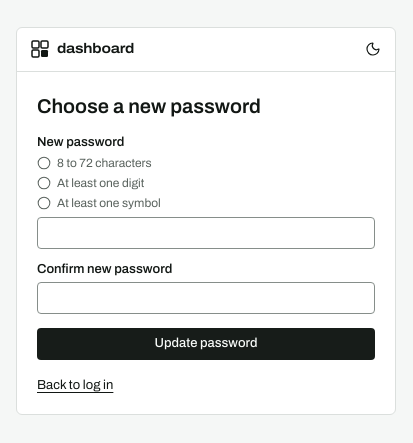
Test: ResetPasswordPage › shows an inline error and makes no request when the confirmation differs
Step 1. Type "telemetry1!" into the password field labelled "New password" → (206, 233), box [37, 217, 375, 249]
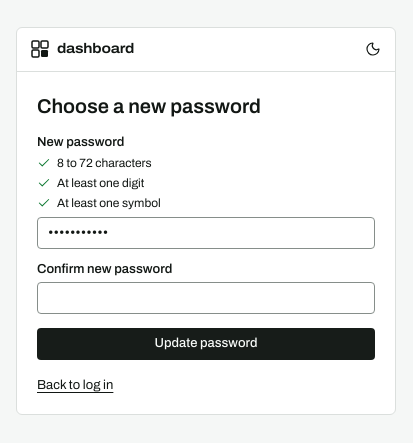
Step 2. Type "telemetry2!" into the password field labelled "Confirm new password" → (206, 298), box [37, 282, 375, 314]
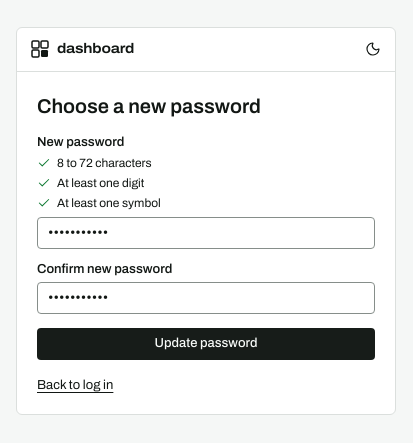
Step 3. Click the button "Update password" → (206, 344), box [37, 328, 375, 360]
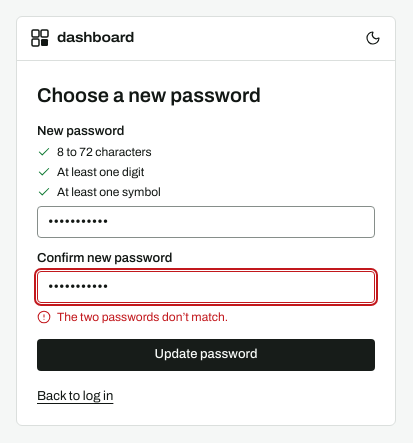
Check: the text "The two passwords don’t match." is shown, box [37, 310, 228, 324]
